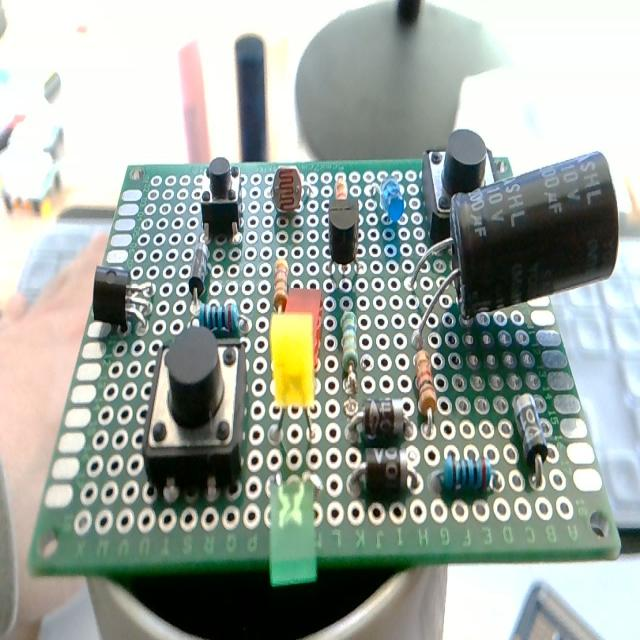Electrolytic capacitor: (408, 141, 622, 355)
cds: (268, 160, 313, 217)
diode: (509, 378, 555, 490), (345, 388, 417, 448), (346, 441, 418, 501), (185, 230, 212, 310)
led: (265, 311, 321, 453), (369, 169, 411, 228)
resistor: (405, 343, 441, 437), (336, 305, 368, 395)
switch: (144, 325, 252, 495), (196, 153, 250, 245)
transistor: (87, 250, 157, 340), (321, 190, 367, 289)
